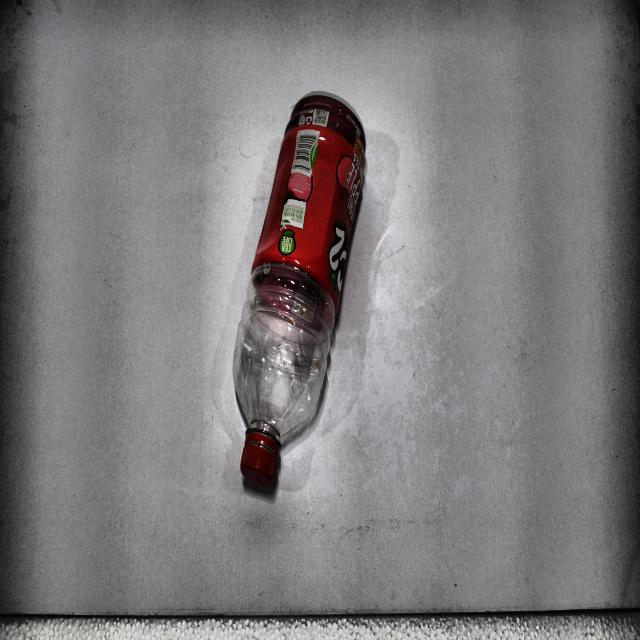Bottles: (230, 85, 369, 486)
